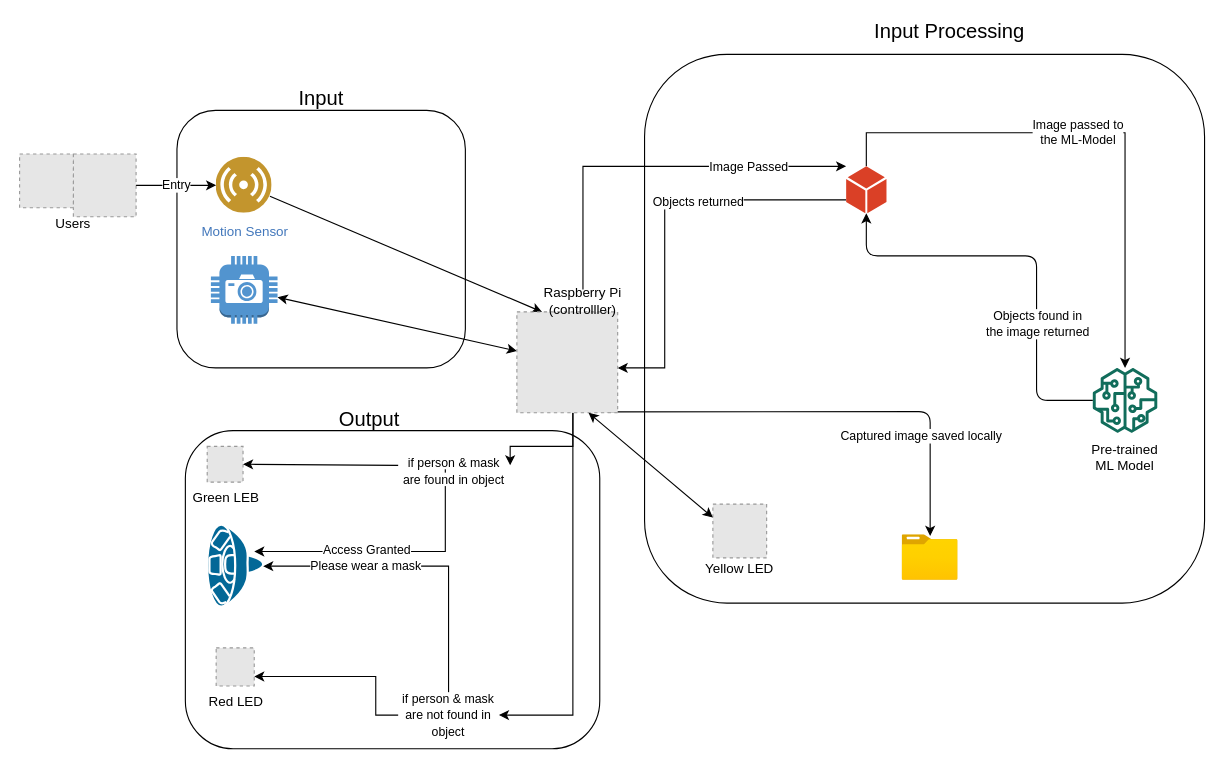
Image size: 1224x768. Some labels were removed from this diagram. Grey dashed boxes stand in for pictures. The shapes that lost their labels are listed below. From the top down, each one's box as (x1, y1, x2, y2) in pixels, then its label:
(210, 255, 278, 324): Camera
(206, 523, 264, 607): Speaker
